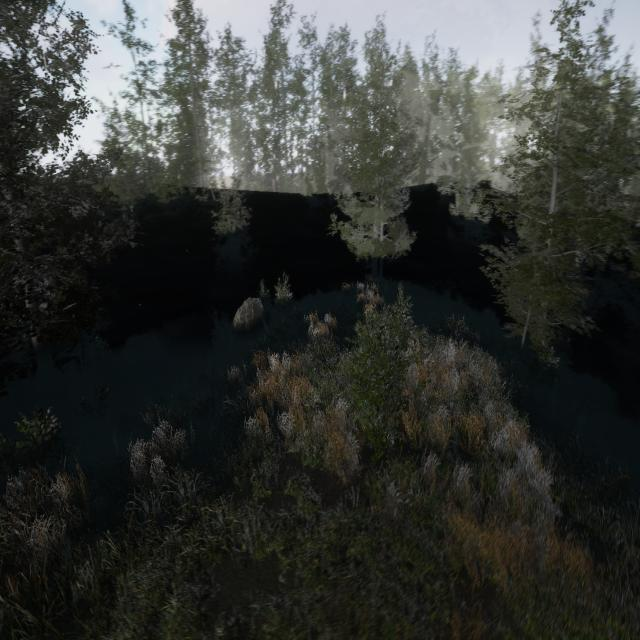Human: (300, 308, 322, 364)
